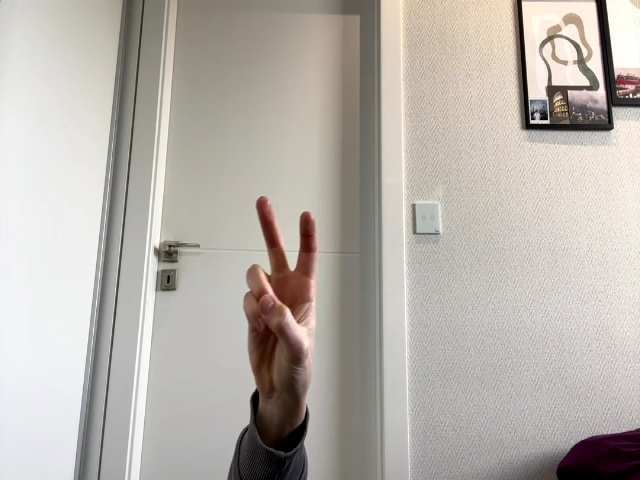H: (245, 197, 318, 396)
